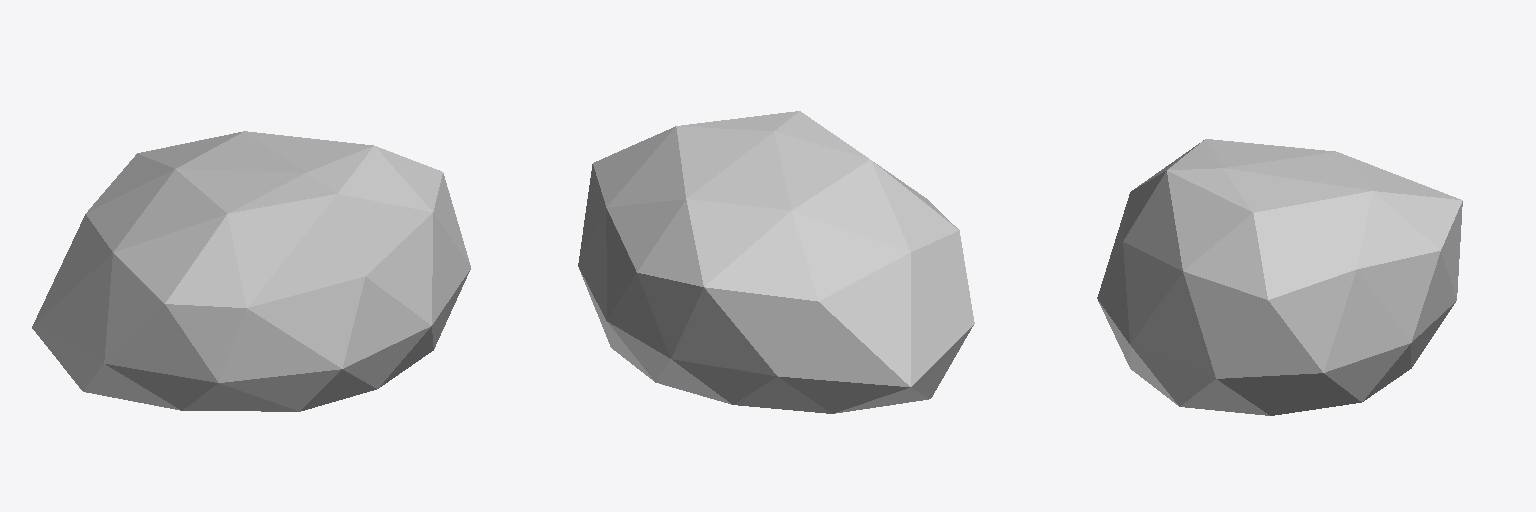
File: rock1.obj
The picture shows the model from 3 angles: view 1: azimuth 30°, elevation 25°; view 2: azimuth 150°, elevation 25°; view 3: azimuth 270°, elevation 25°; orthographic projection.
Size of the model in its own units: 0.8108 by 0.416 by 0.6999.